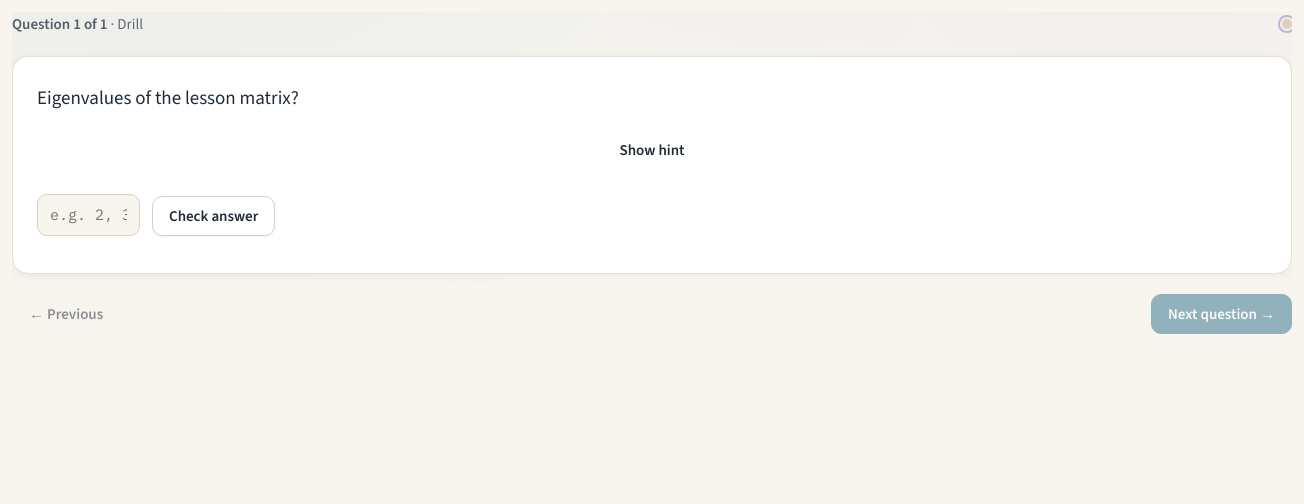
Test: ExercisePanel tiers and eigenvalue grading › shows a hint on demand and grades eigenvalues
Check: the text "· Drill" is shown, box x1=108 y1=14 x2=143 y2=34
Step 1. Click the button "Show hint" → (652, 150), box x1=37 y1=130 x2=1267 y2=170
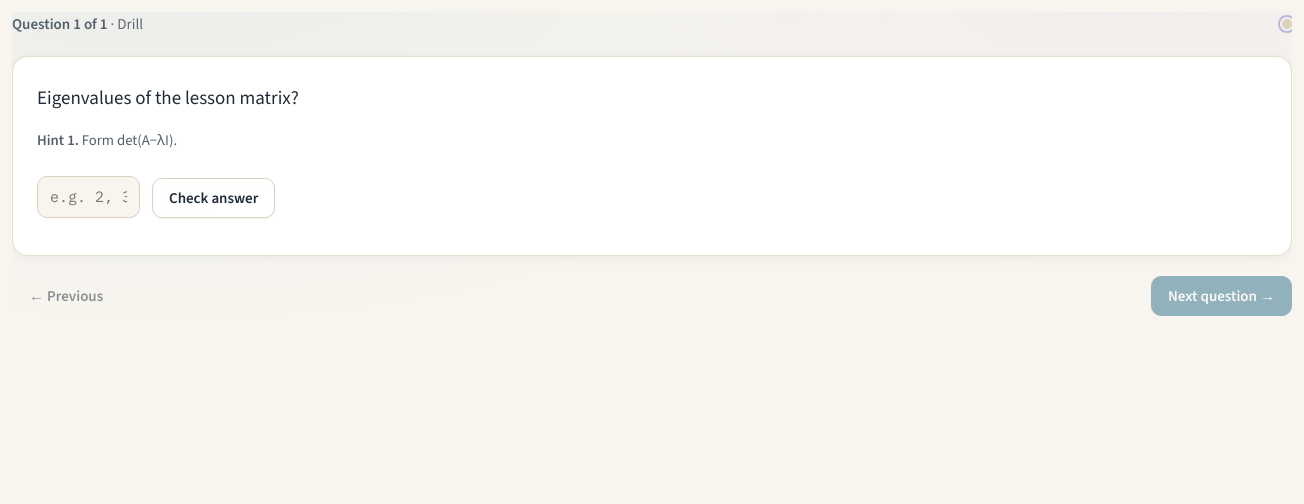
Check: the text "Form det(A−λI)." is shown, box x1=82 y1=130 x2=177 y2=150
Step 2. Type "3, 2" into the field named "Eigenvalues" → (88, 197), box x1=37 y1=176 x2=140 y2=218
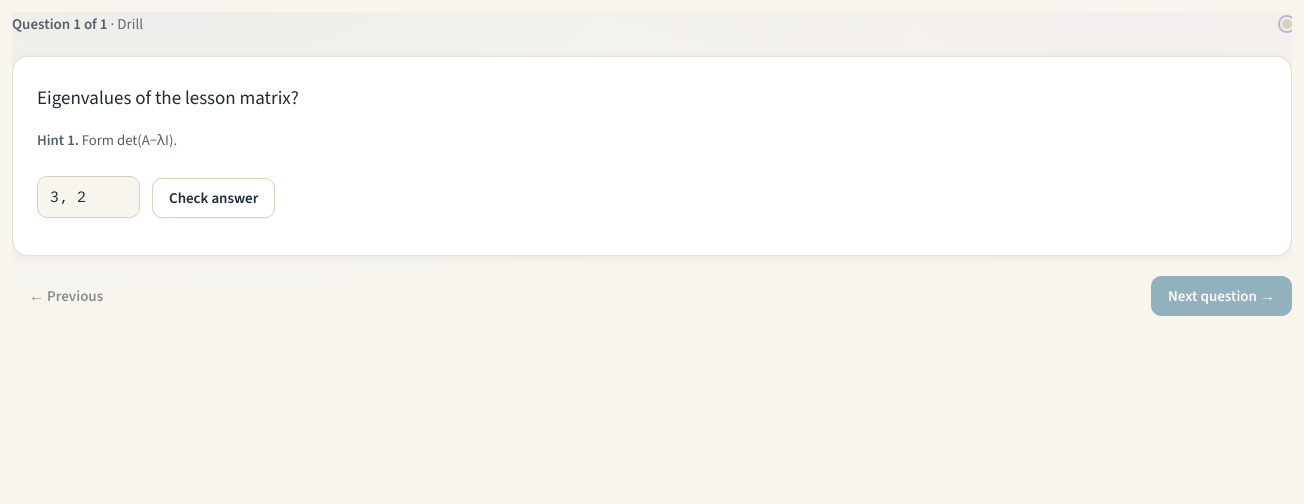
Step 3. Click the button "Check answer" → (214, 198), box x1=152 y1=178 x2=275 y2=218
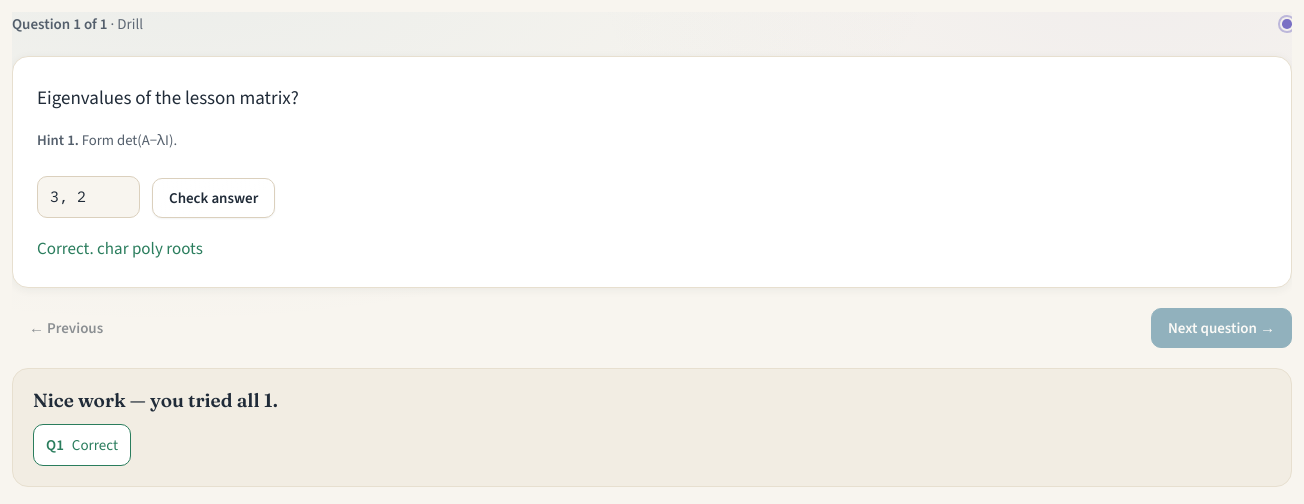
Check: the message with class "exercise-panel__feedback" shows "Correct", box x1=37 y1=237 x2=203 y2=260
